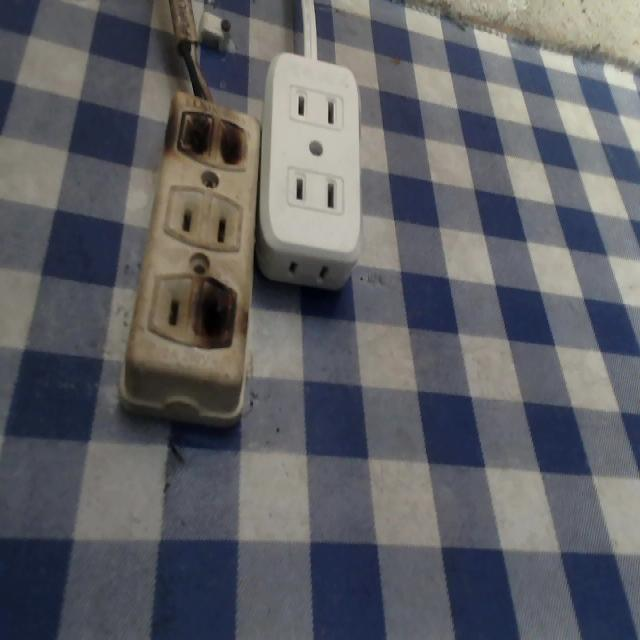-: (173, 104, 248, 180), (189, 272, 244, 351)
